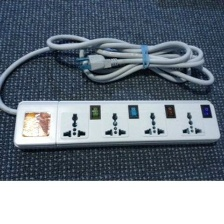three_eye_plug: (10, 96, 222, 153)
